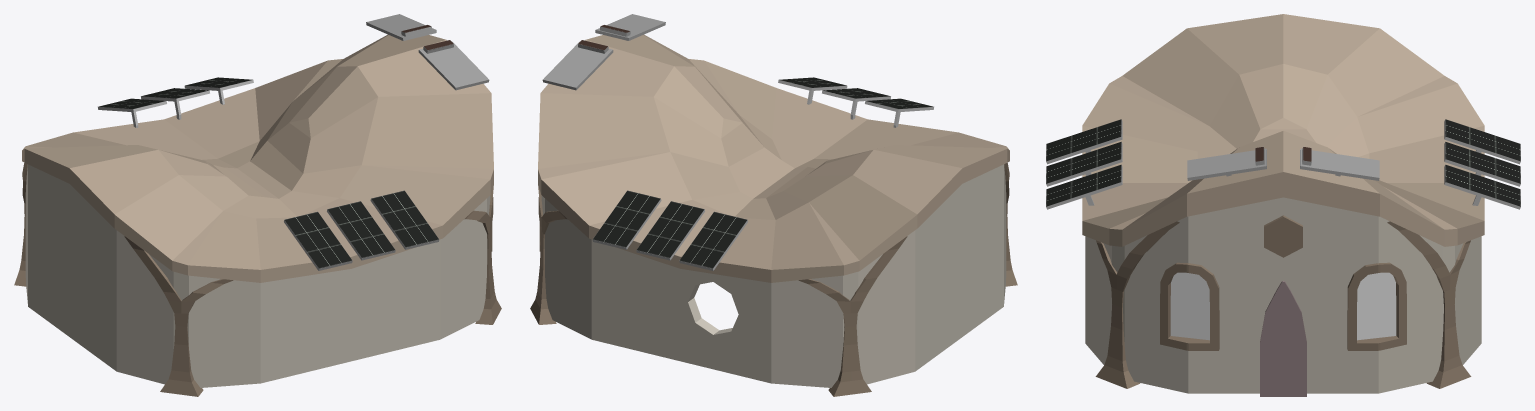
File: cabin_draft.fbx
3 views of the same model, side by side, from view 1: azimuth 30°, elevation 25°; view 2: azimuth 150°, elevation 25°; view 3: azimuth 270°, elevation 25° (orthographic). The views are drawn at different scales.
Visible parts, largest first — view 1: roof, WALLS, back pillars, solar panel 0, solar panel 0.001, solar panel 0.003, solar panel 0.002, front pillars; view 2: roof, WALLS, back pillars, solar panel 0, solar panel 0.001, solar panel 0.003, solar panel 0.002, front pillars; view 3: roof, WALLS, front pillars, front_windows, Cube.005, door, solar panel 0, solar panel 0.002, solar panel 0.001, solar panel 0.003, top front window.
Boxes of the visible parts, x1,y1,x2,y2 form: roof: (22, 34, 493, 282); WALLS: (25, 164, 490, 387); back pillars: (14, 162, 233, 396); solar panel 0: (366, 14, 489, 90); solar panel 0.001: (141, 88, 395, 260); solar panel 0.003: (98, 98, 352, 270); solar panel 0.002: (184, 77, 439, 249); front pillars: (464, 187, 501, 324); roof: (538, 34, 1009, 282); WALLS: (541, 164, 1006, 387); back pillars: (798, 162, 1017, 396); solar panel 0: (542, 14, 665, 90); solar panel 0.001: (636, 88, 890, 260); solar panel 0.003: (679, 98, 933, 270); solar panel 0.002: (592, 77, 847, 249); front pillars: (530, 187, 567, 324); roof: (1082, 14, 1484, 246); WALLS: (1085, 197, 1481, 393); front pillars: (1095, 221, 1471, 388); front_windows: (1160, 262, 1406, 350); Cube.005: (1170, 272, 1396, 340); door: (1260, 281, 1306, 396); solar panel 0: (1187, 146, 1379, 180); solar panel 0.002: (1046, 164, 1520, 209); solar panel 0.001: (1046, 141, 1520, 186); solar panel 0.003: (1046, 119, 1520, 164); top front window: (1264, 215, 1302, 257).
Size of what is drawn, in the model's own units: 1866 by 1038 by 1899.
